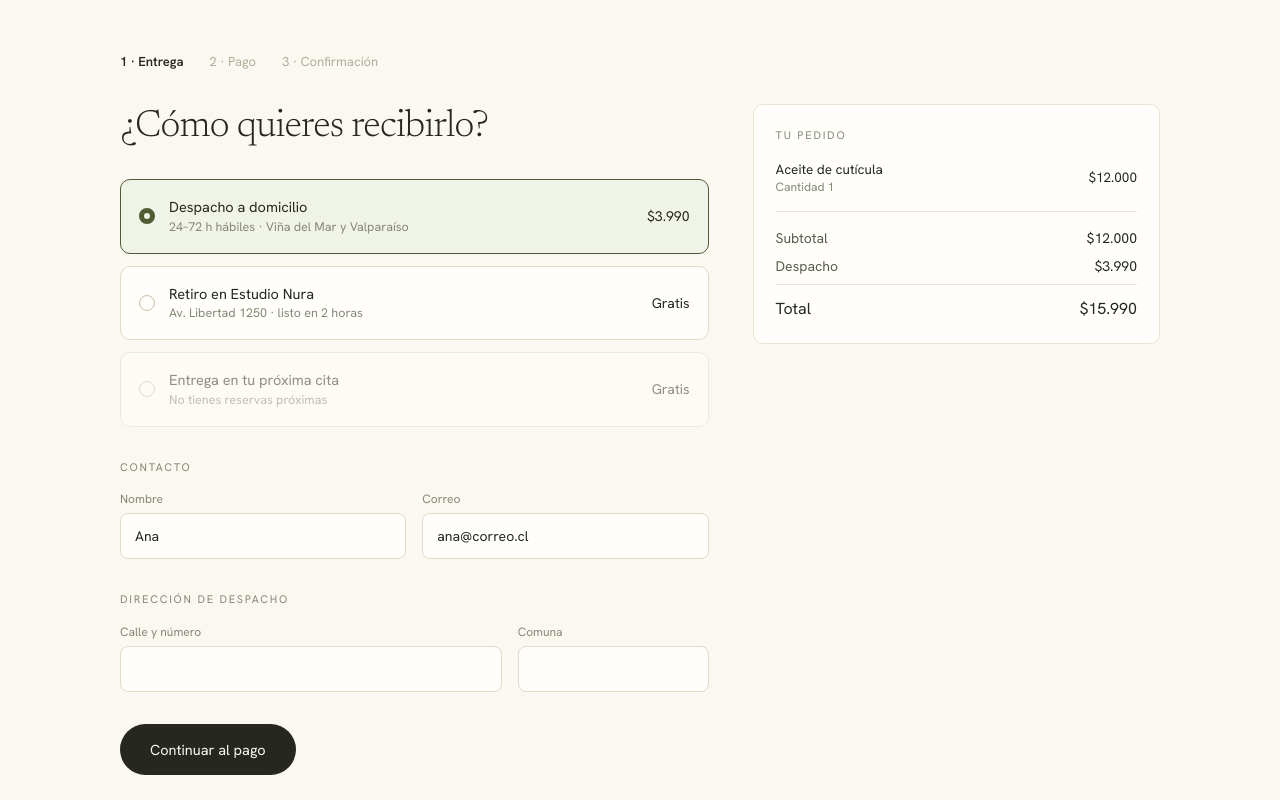
Test case: Checkout: Webpay que no abre › antes de registrar el pedido se puede elegir pagar en el estudio
This screenshot has width=1280, height=800.
Click the radio button labelled "Retiro en Estudio Nura" at (146, 303), box [138,295,154,311]
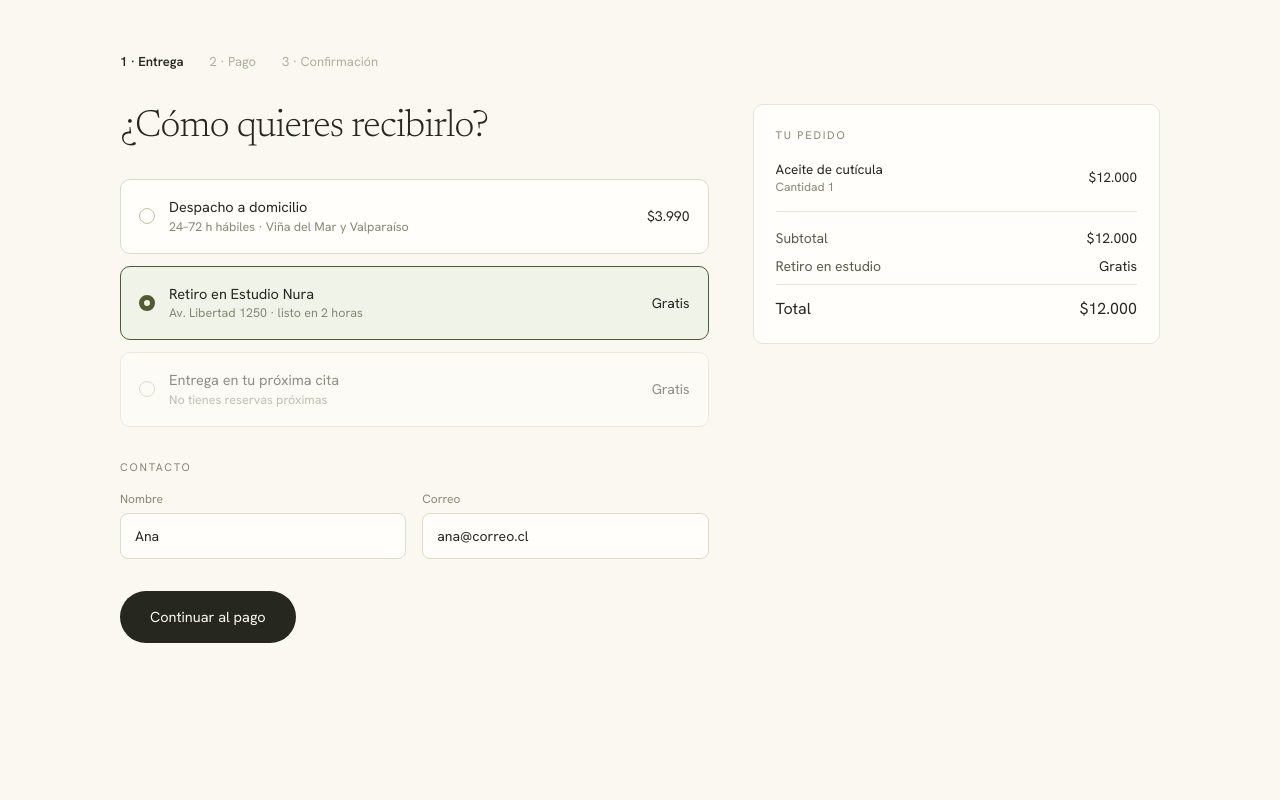
Click the button "Continuar al pago" at (208, 617), box [120,591,296,643]
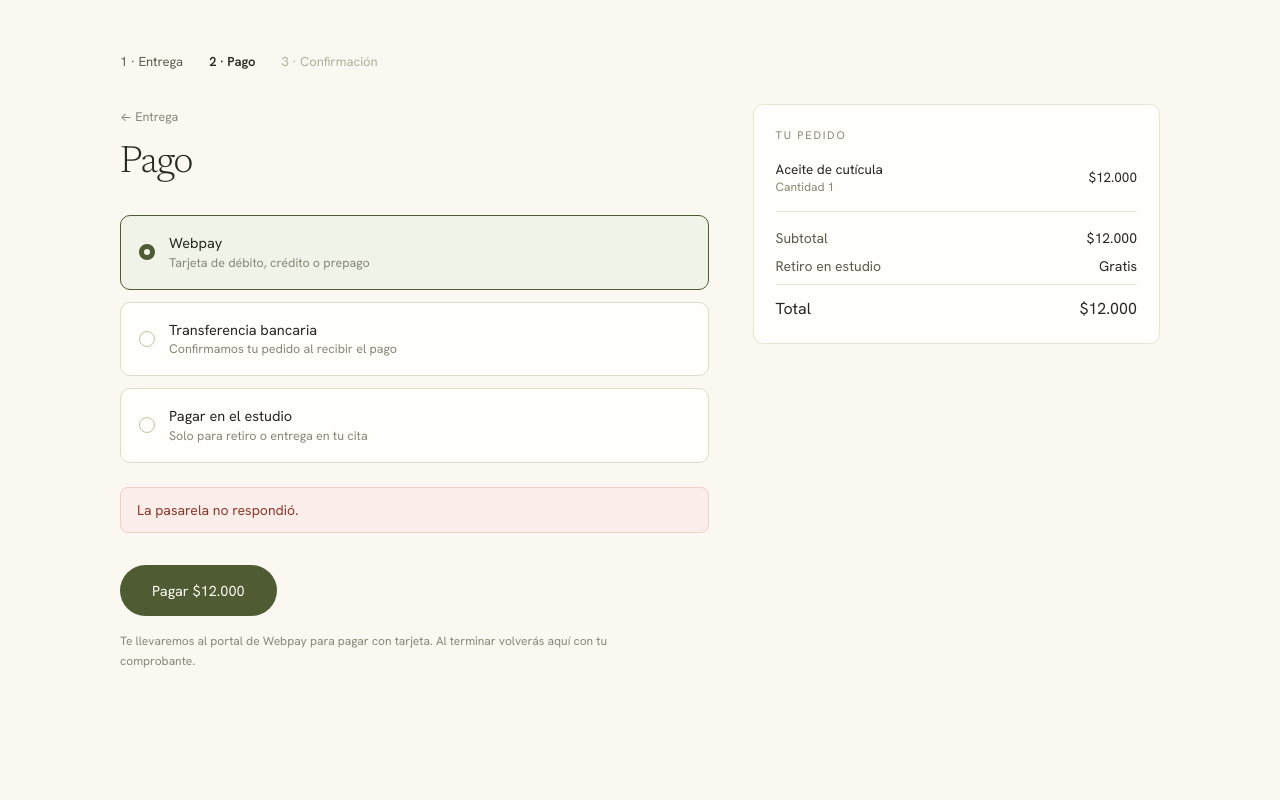
Check: the radio button labelled "Pagar en el estudio Solo para retiro o entrega en tu cita" is enabled, box [138,417,154,433]
